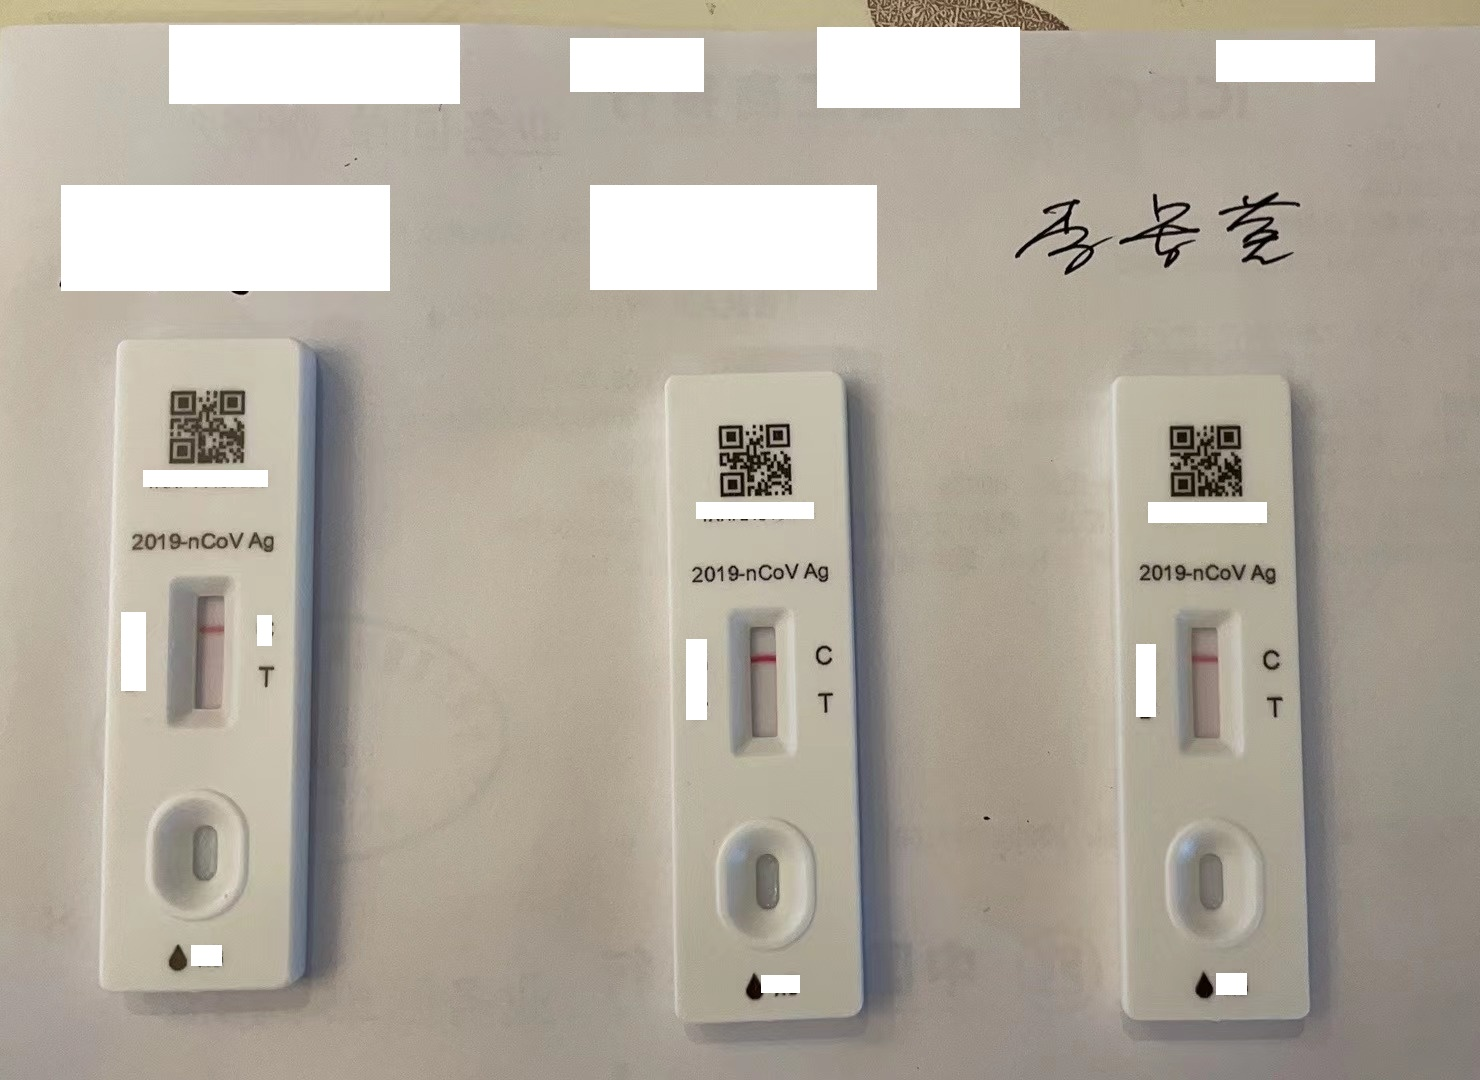negative: (169, 574, 237, 728), (1173, 607, 1240, 754), (725, 604, 791, 751)
